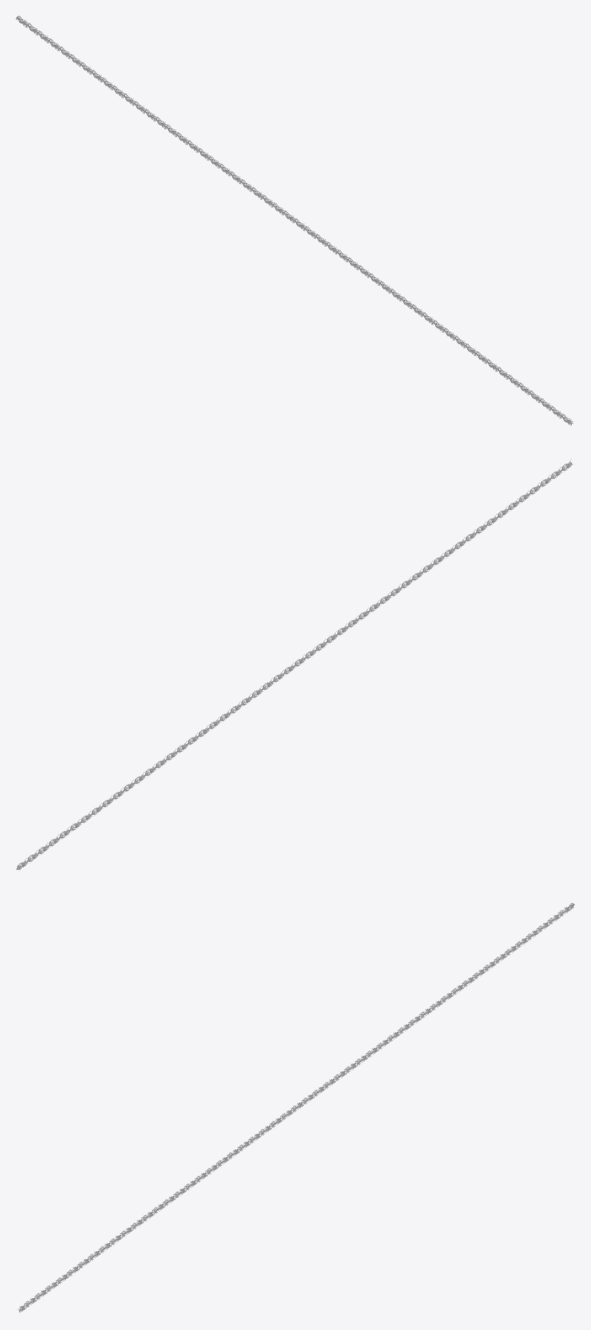
Rendered from si_ees_2711.glb.
The picture shows the model from 3 angles, top to bottom: view 1: azimuth 30°, elevation 25°; view 2: azimuth 150°, elevation 25°; view 3: azimuth 330°, elevation 25°; orthographic projection.
Visible parts, largest first — view 1: layer_00_si_ees_2700; view 2: layer_00_si_ees_2700; view 3: layer_00_si_ees_2700.
Boxes of the visible parts, <box> form: layer_00_si_ees_2700: <box>16,16,572,425</box>; layer_00_si_ees_2700: <box>16,461,572,869</box>; layer_00_si_ees_2700: <box>18,903,574,1312</box>.
Bounding box in the file's own units: 319 × 328 × 31200.
Materials: 2 (2 with a texture image).
